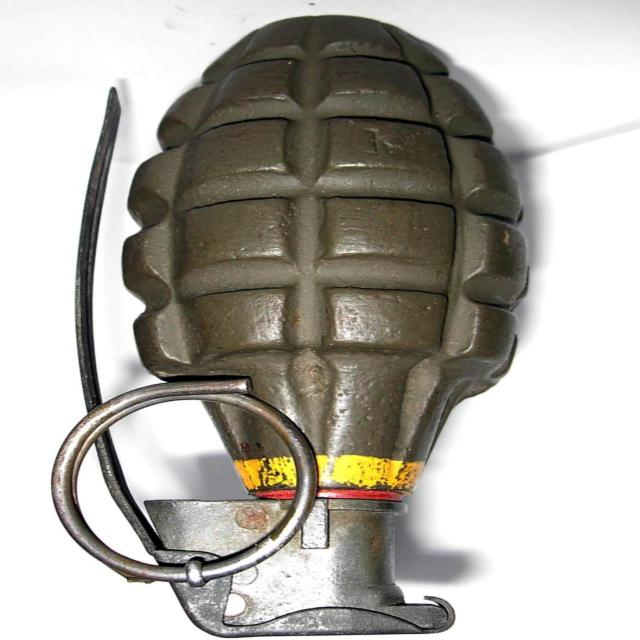grenade: (52, 14, 531, 640)
